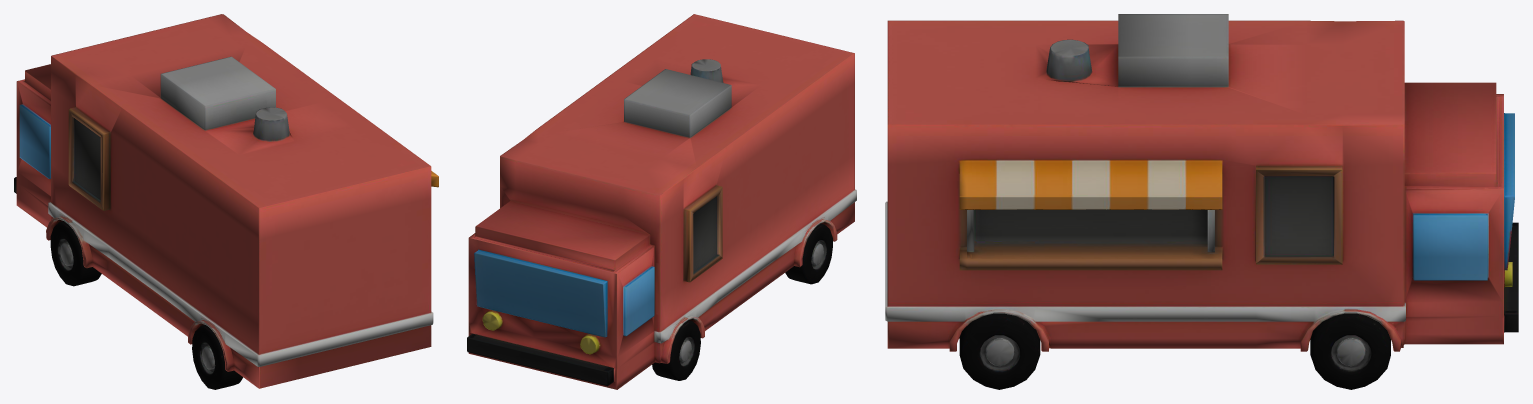
Rendered from food-truck-tripo-original.glb.
3 views of the same model, side by side, from view 1: azimuth 30°, elevation 25°; view 2: azimuth 150°, elevation 25°; view 3: azimuth 270°, elevation 25° (orthographic). The views are drawn at different scales.
Visible parts, largest first — view 1: tripo_node_d1e9b696-7db8-4430-9c2a-7927ec78d428; view 2: tripo_node_d1e9b696-7db8-4430-9c2a-7927ec78d428; view 3: tripo_node_d1e9b696-7db8-4430-9c2a-7927ec78d428.
Boxes of the visible parts, x1,y1,x2,y2 form: tripo_node_d1e9b696-7db8-4430-9c2a-7927ec78d428: (14, 14, 438, 389); tripo_node_d1e9b696-7db8-4430-9c2a-7927ec78d428: (467, 14, 856, 389); tripo_node_d1e9b696-7db8-4430-9c2a-7927ec78d428: (885, 14, 1518, 389).
Size of the model in its own units: 0.4892 by 0.5088 by 1.
Materials: 1 (1 with a texture image).
